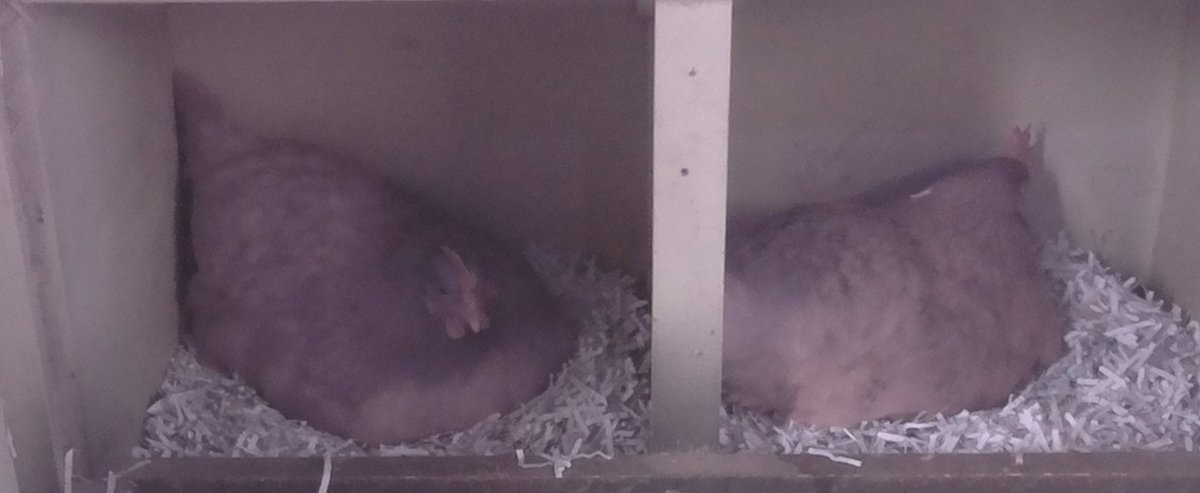hen: (168, 77, 583, 449), (726, 122, 1062, 432)
